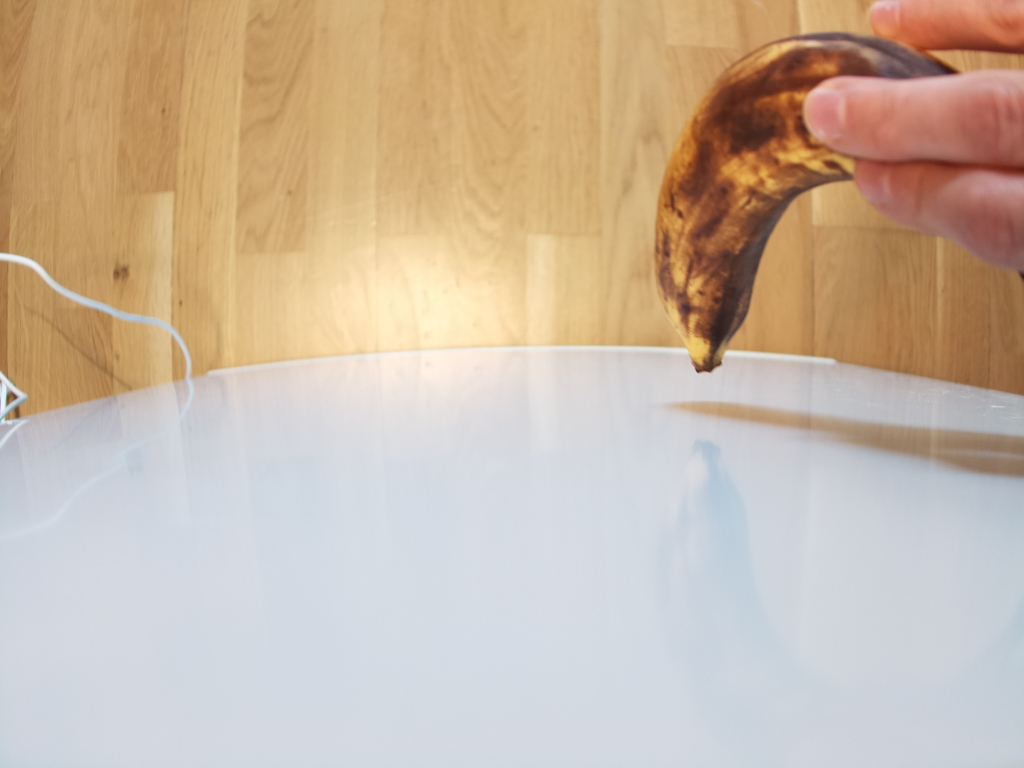banana-overripe: (652, 33, 963, 375)
